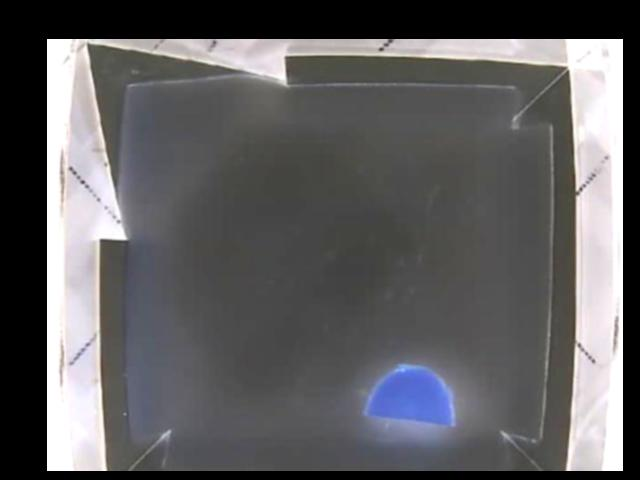Potato: (366, 363, 456, 430)
